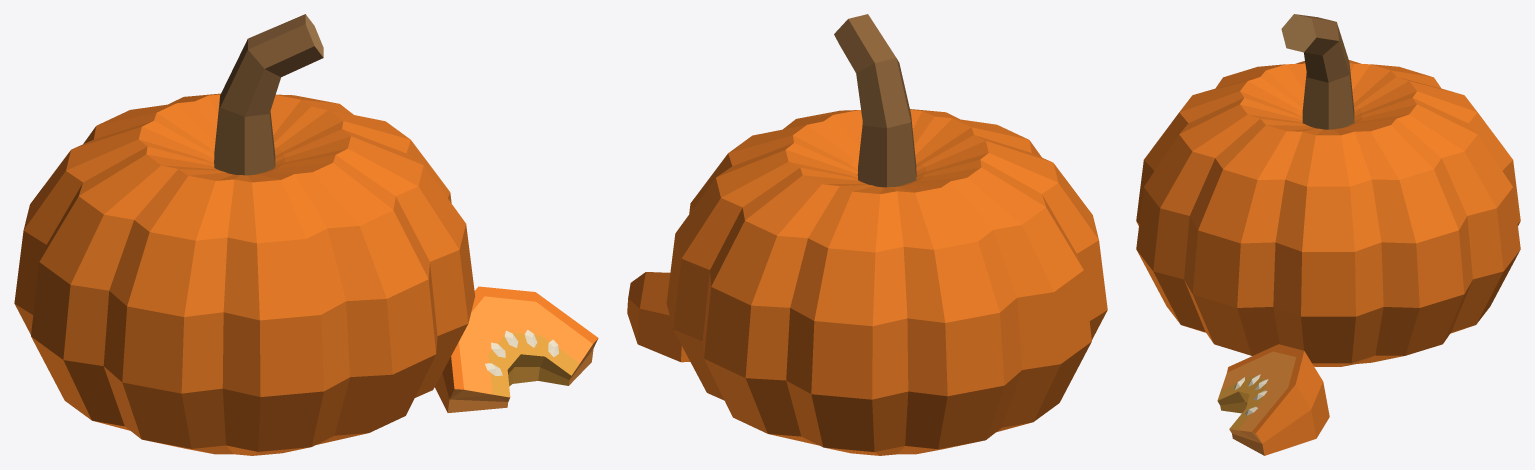
File: FMS_Veg_Pumpkin.fbx
3 renders of one model, left to right at view 1: azimuth 30°, elevation 25°; view 2: azimuth 150°, elevation 25°; view 3: azimuth 270°, elevation 25°, orthographic. The views are drawn at different scales.
Visible parts, largest first — view 1: item_produce_pumpkin; view 2: item_produce_pumpkin; view 3: item_produce_pumpkin.
Part boxes in pixels (bbox=[...]): item_produce_pumpkin: bbox=[14, 14, 598, 455]; item_produce_pumpkin: bbox=[627, 14, 1107, 455]; item_produce_pumpkin: bbox=[1136, 14, 1520, 455].
Bounding box in the file's own units: 0.3871 × 0.2843 × 0.2995.
Materials: 1 (1 with a texture image).
